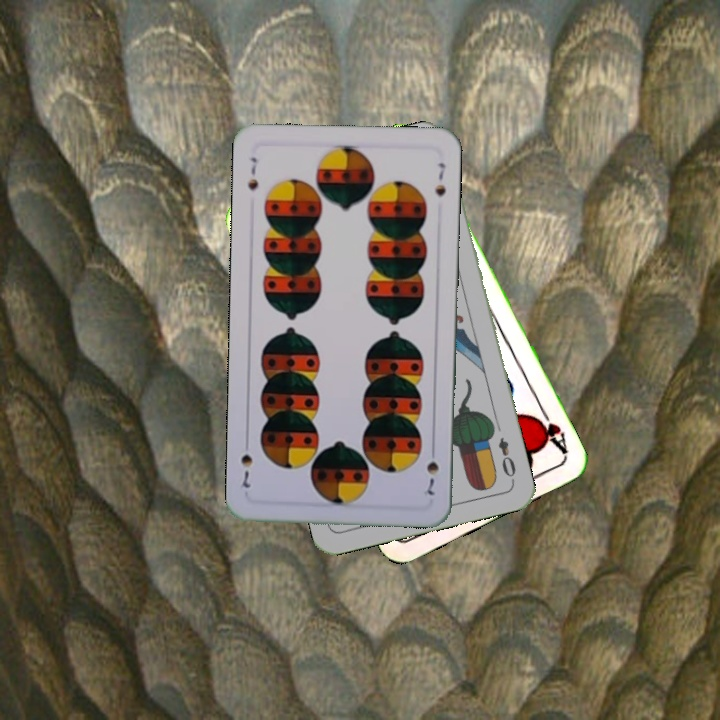EO: (494, 433, 519, 485)
HA: (530, 403, 571, 458)
S7: (422, 442, 441, 498), (244, 153, 261, 192)
